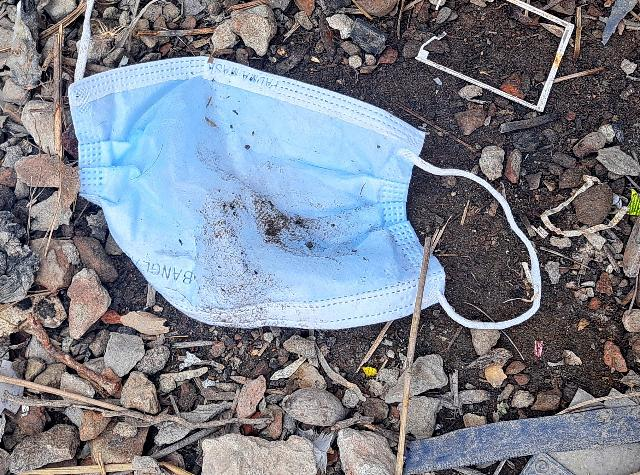mask: (59, 57, 470, 337)
